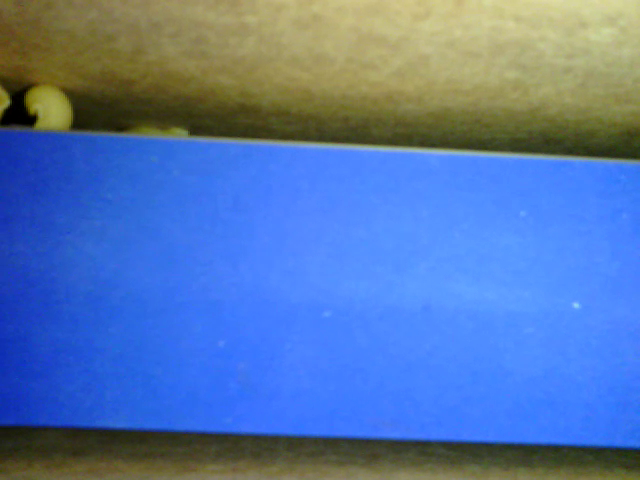shell: (24, 85, 74, 133)
